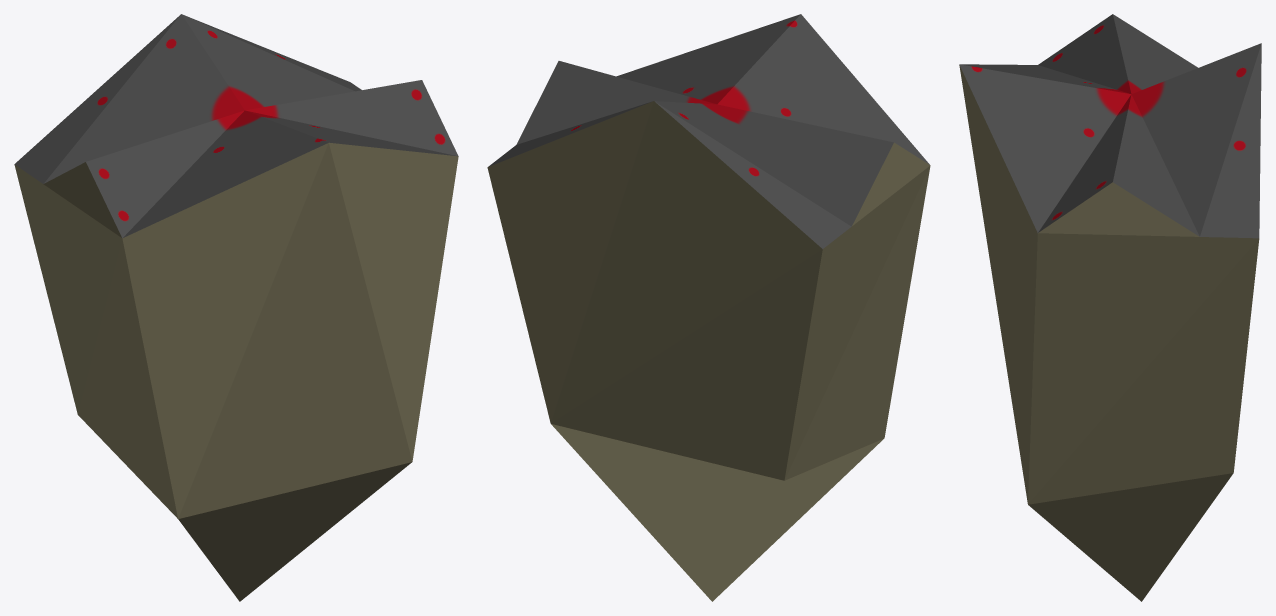
The model's file is head2.obj.
3 views of the same model, side by side, from view 1: azimuth 30°, elevation 25°; view 2: azimuth 150°, elevation 25°; view 3: azimuth 270°, elevation 25° (orthographic). The views are drawn at different scales.
Parts seen in each view (by area): view 1: MechHead2; view 2: MechHead2; view 3: MechHead2.
Part boxes in pixels (bbox=[...]): MechHead2: bbox=[14, 14, 458, 601]; MechHead2: bbox=[487, 14, 930, 601]; MechHead2: bbox=[959, 14, 1261, 601].
Size of the model in its own units: 1.84 by 2.85 by 1.4.
Materials: 1 (1 with a texture image).
